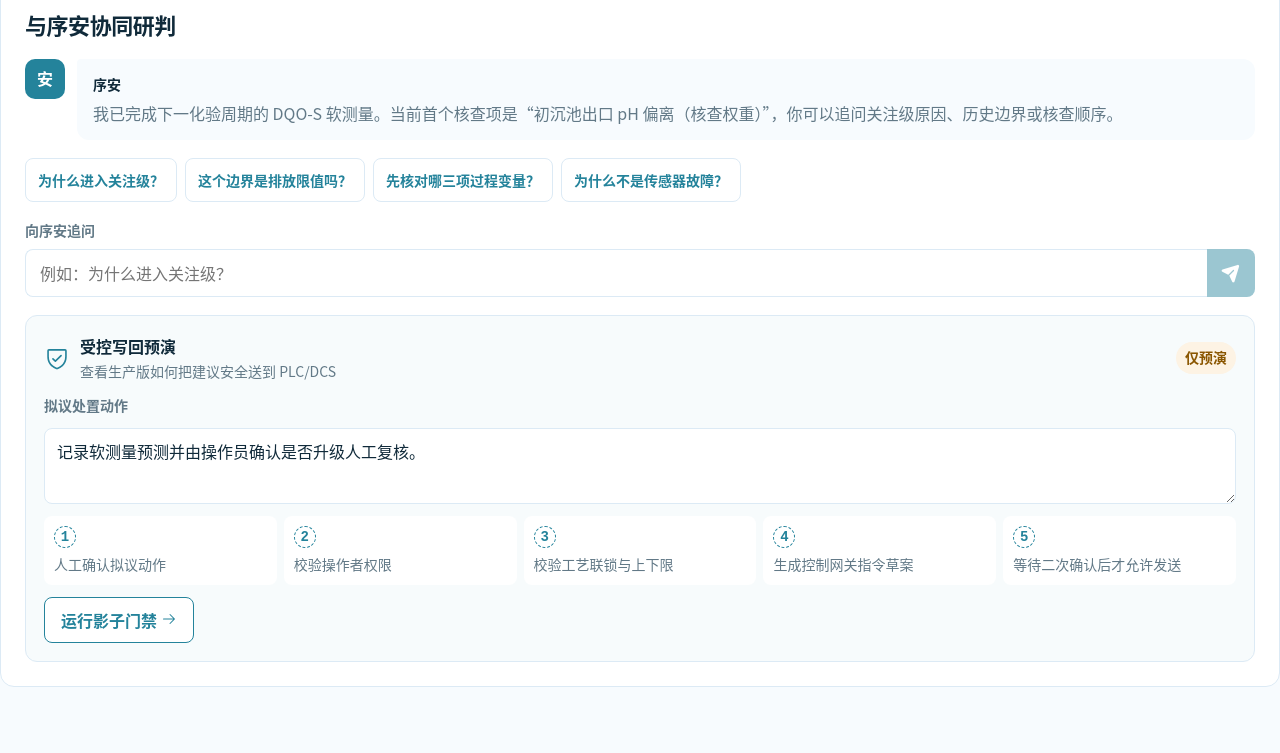
Scenario: 事件协同研判在线 AI › 把在线 AI 证据交给人工编辑后执行真实影子门禁并明确从未发送
Click the button "为什么不是传感器故障？" at point(651, 180), box [561,158,741,202]
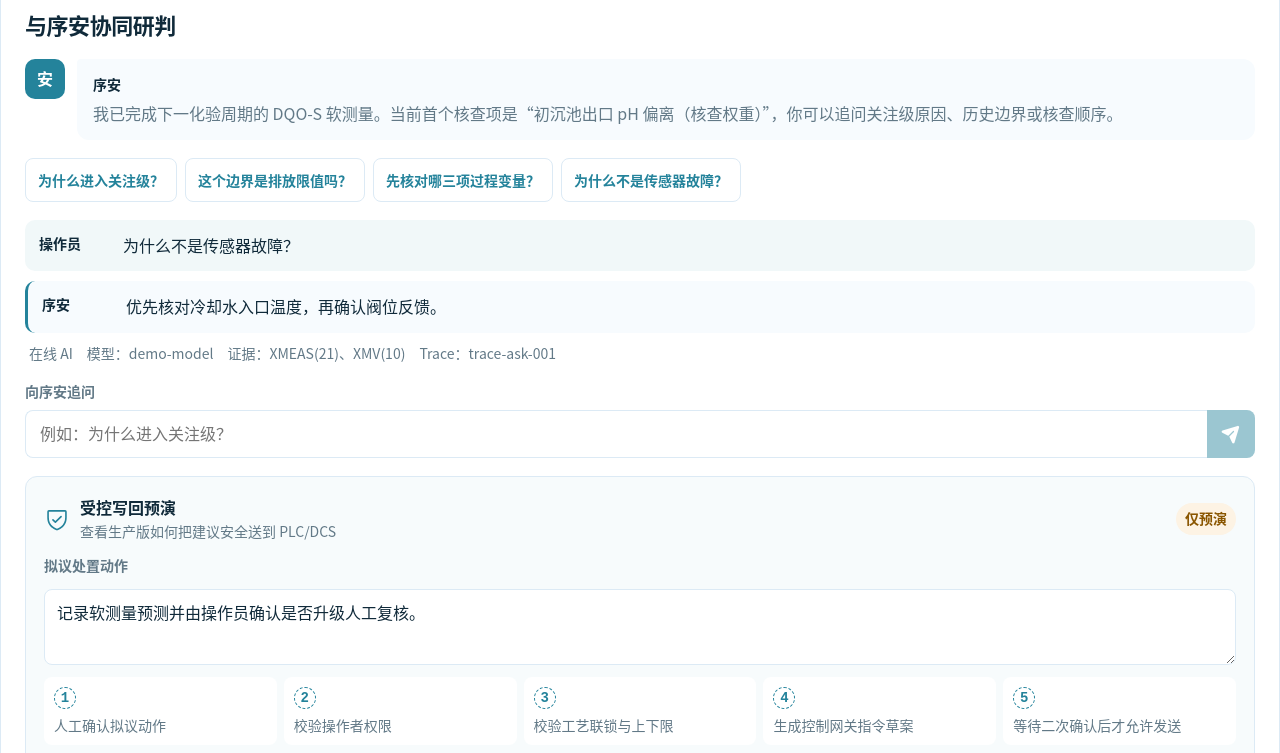
Check: the text "优先核对冷却水入口温度，再确认阀位反馈。" is shown, box [126,294,446,318]
Replace the text in the text box labelled "拟议处置动作" with "保持当前控制策略并提高关键变量监视频率" at point(640, 627), box [44,589,1236,665]
(page scrolled)
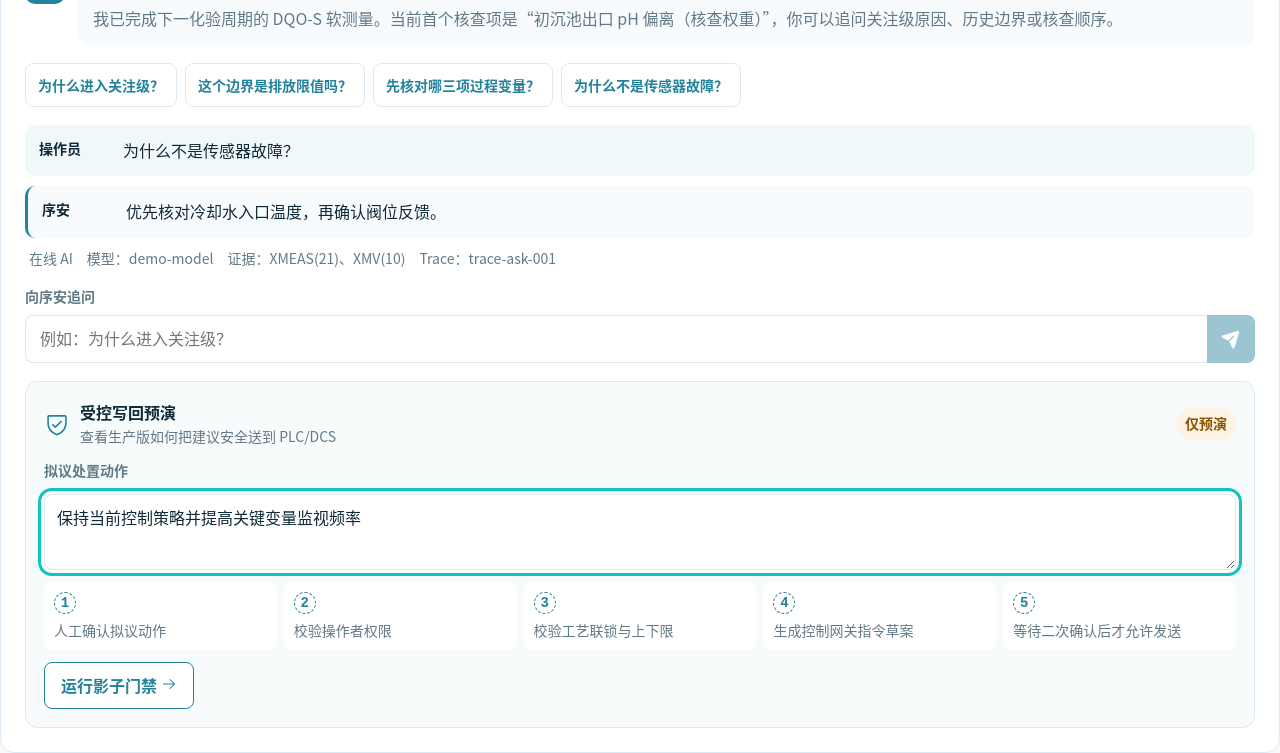
Click the button "运行影子门禁" at point(119, 685), box [44,662,194,709]
(page scrolled)
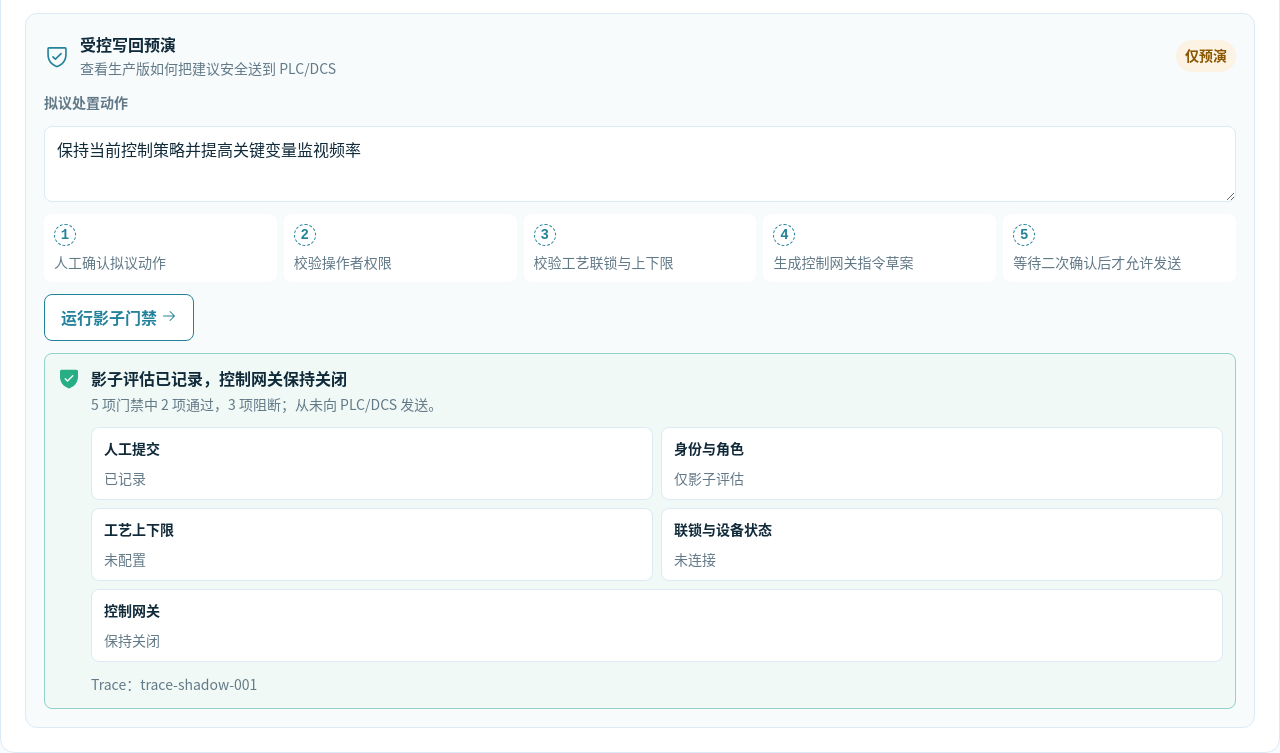
Check: the text "影子评估已记录，控制网关保持关闭" is shown, box [91,366,347,390]
Check: the text "5 项门禁中 2 项通过，3 项阻断；从未向 PLC/DCS 发送。" is shown, box [91,394,442,414]
Check: the text "Trace：trace-shadow-001" is shown, box [91,674,257,694]
